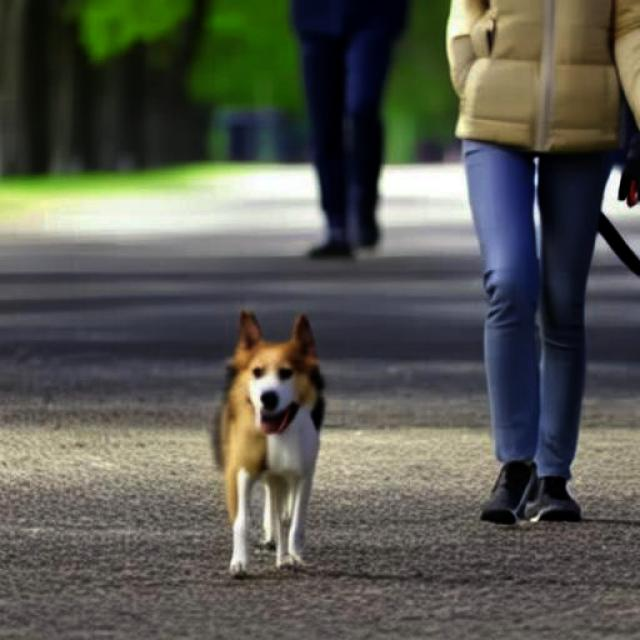Unleashed_Dog: (205, 151, 608, 580)
